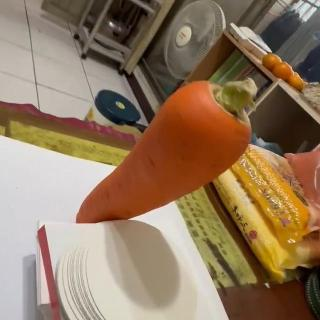carrot: (76, 78, 257, 228)
